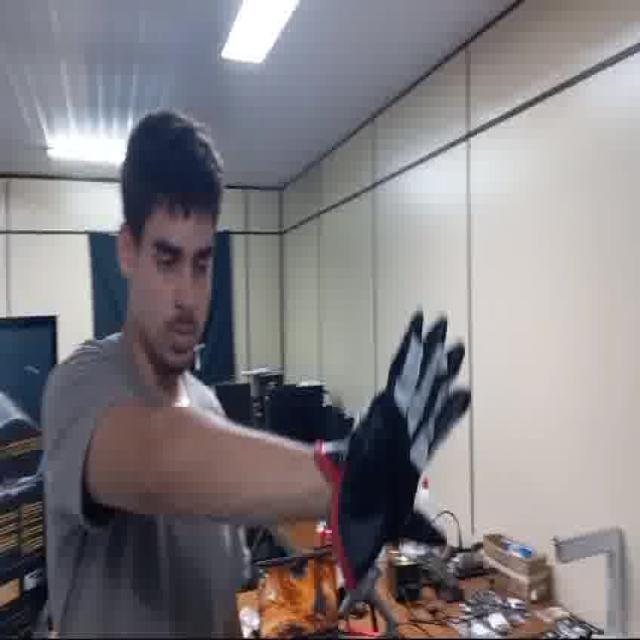Gloves: (325, 300, 472, 572)
